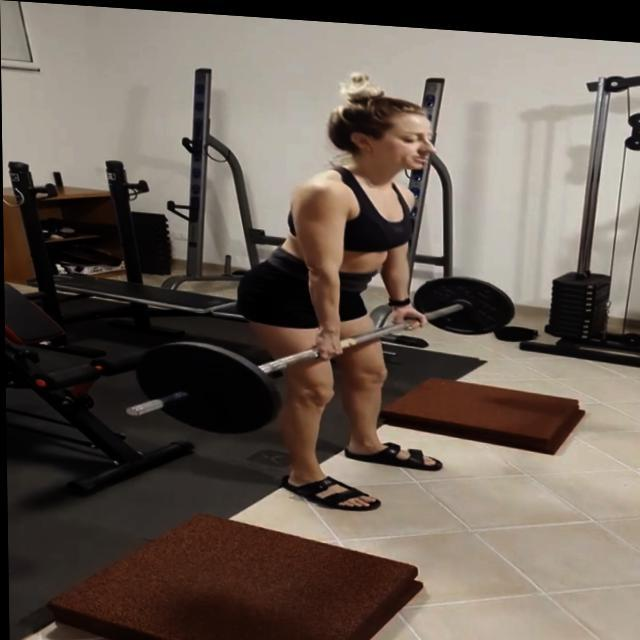barbell: (121, 334, 288, 439)
